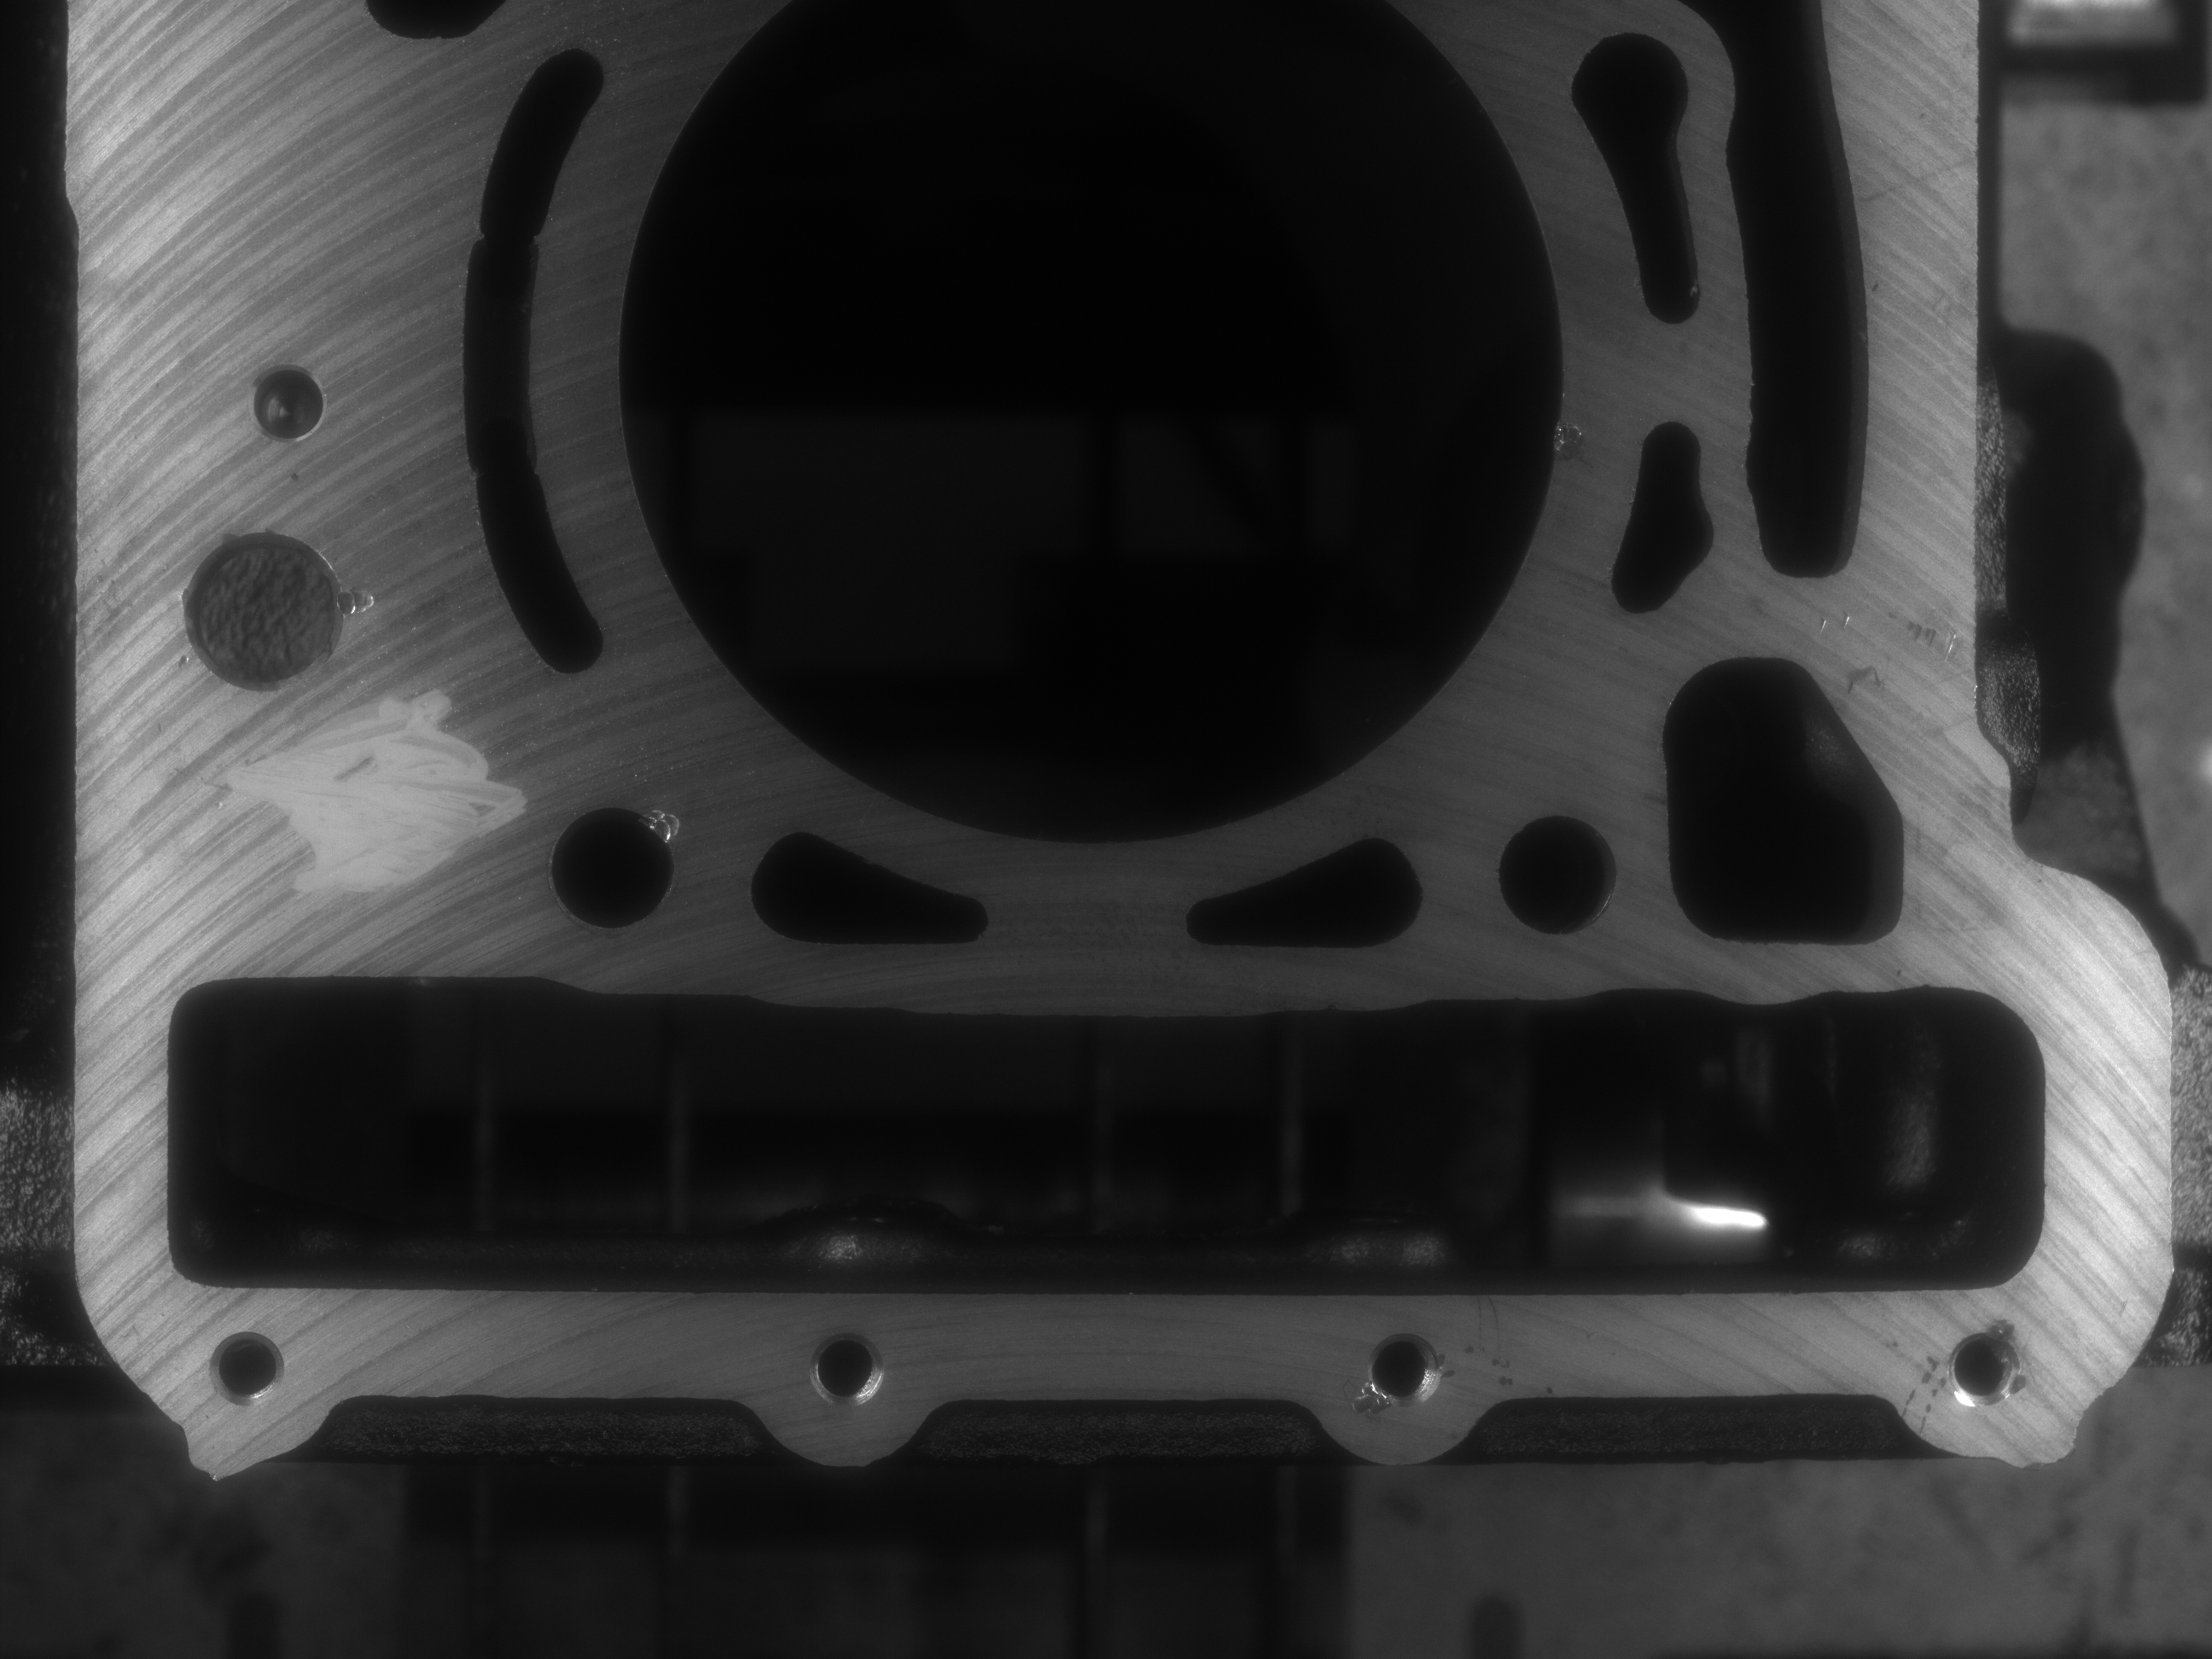dirty: (233, 683, 526, 884)
shrinkage: (336, 577, 387, 622), (1559, 399, 1592, 464)
